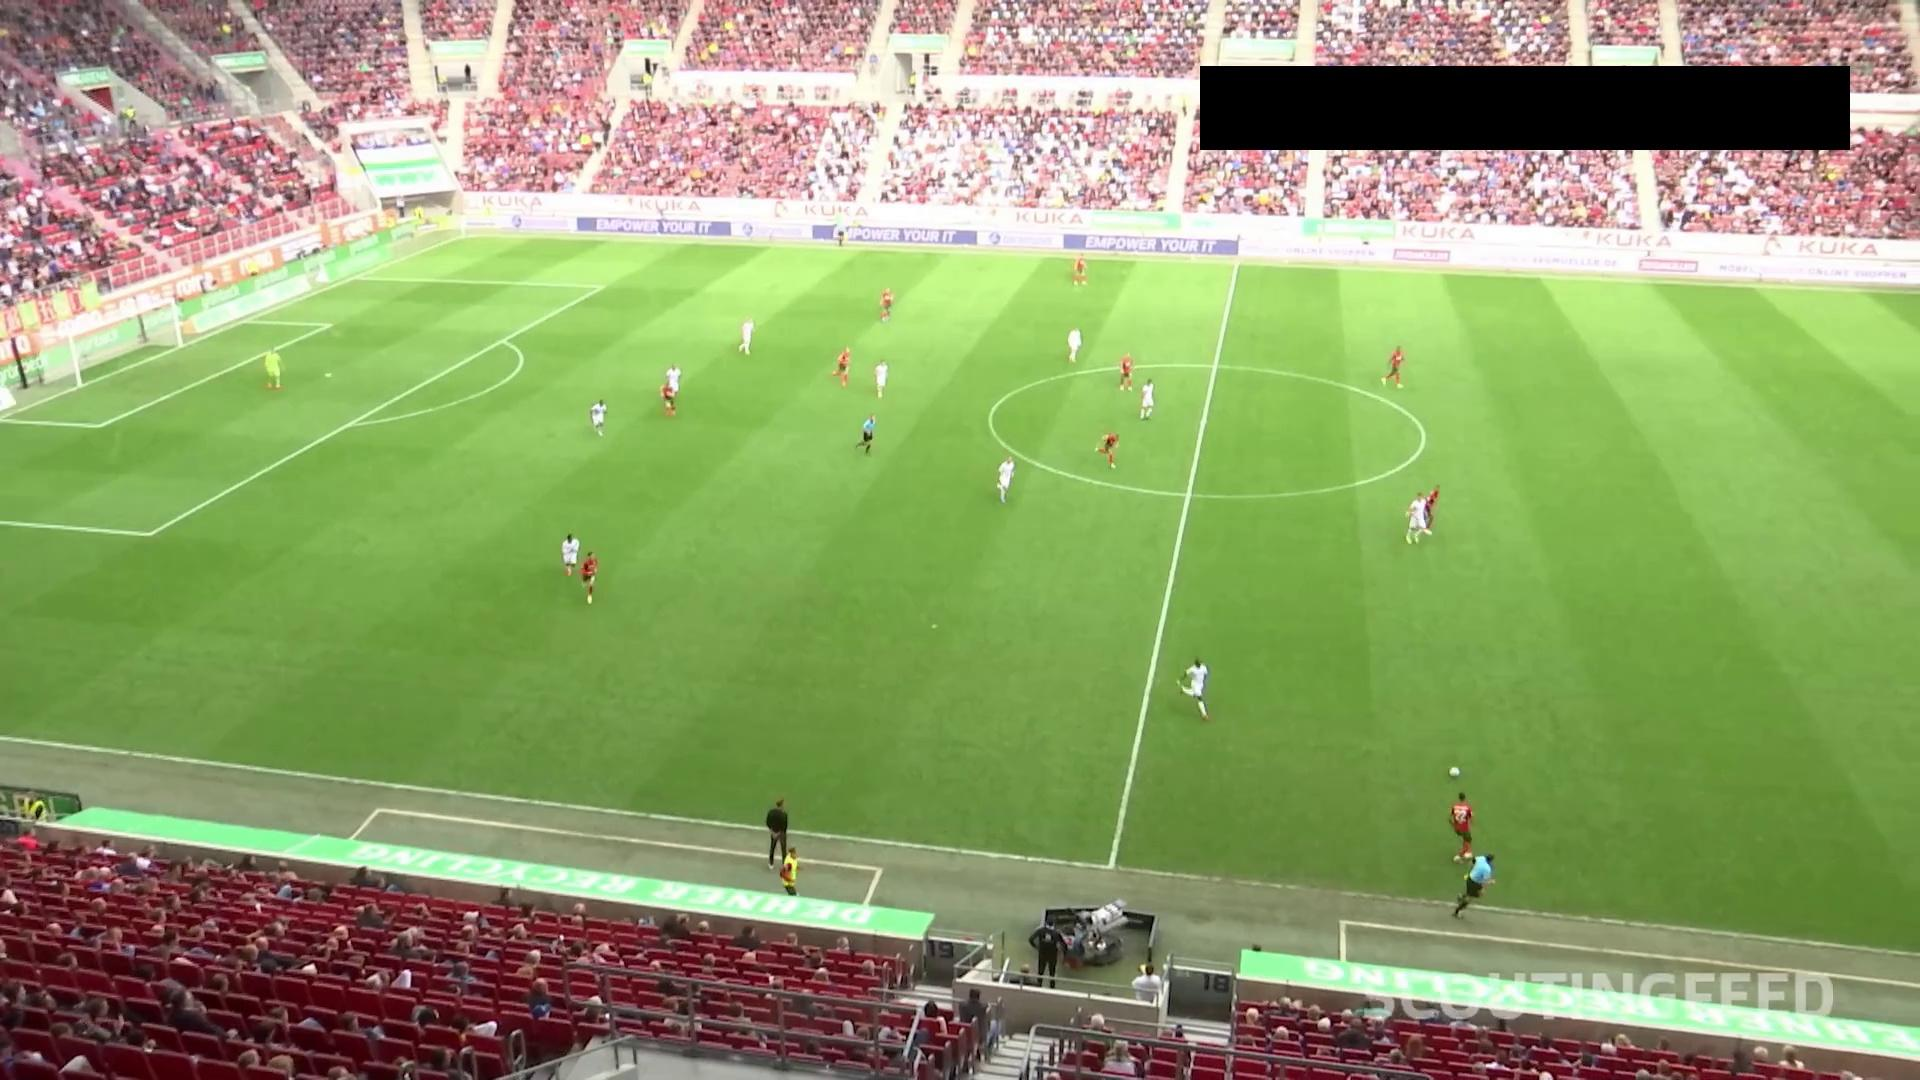Location-of-ball: (1440, 758, 1472, 789)
